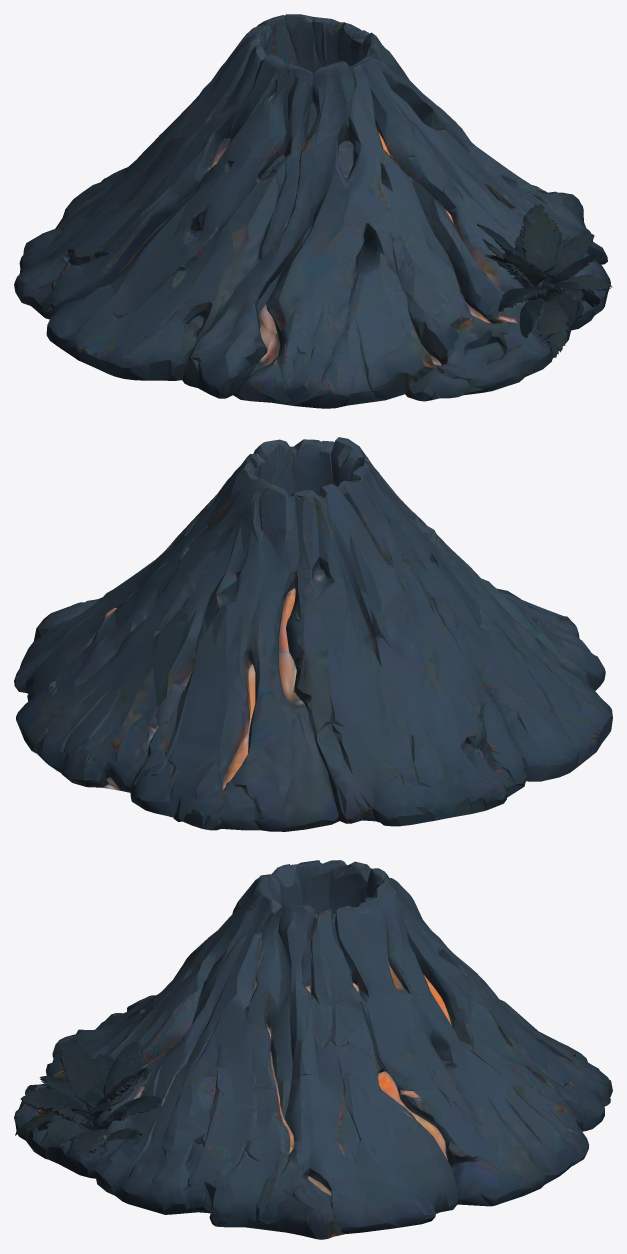
Rendered from mayon.glb.
3 views of the same model, one above another, from view 1: azimuth 30°, elevation 25°; view 2: azimuth 150°, elevation 25°; view 3: azimuth 270°, elevation 25° (orthographic). The views are drawn at different scales.
Parts seen in each view (by area): view 1: mesh_node; view 2: mesh_node; view 3: mesh_node.
Part boxes in pixels (<box>): mesh_node: <box>14,14,612,408</box>; mesh_node: <box>14,437,612,831</box>; mesh_node: <box>14,860,612,1239</box>.
Size of the model in its own units: 1.88 by 0.8187 by 1.9.
Materials: 1 (1 with a texture image).
